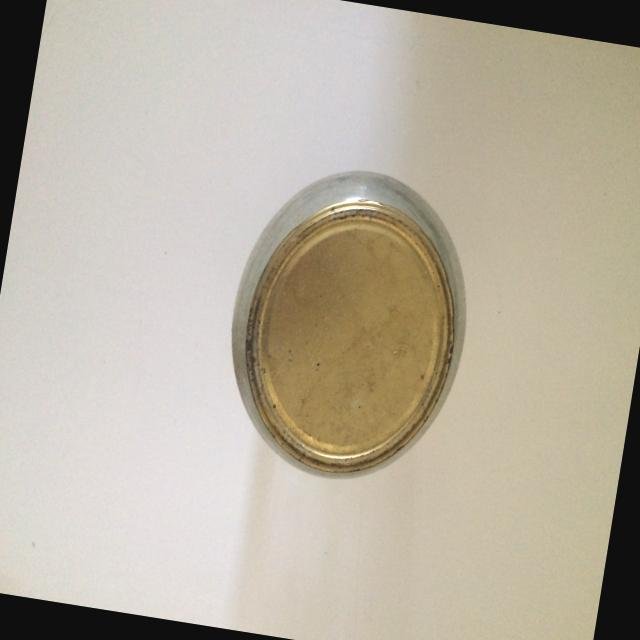Glass: (195, 142, 494, 499)
